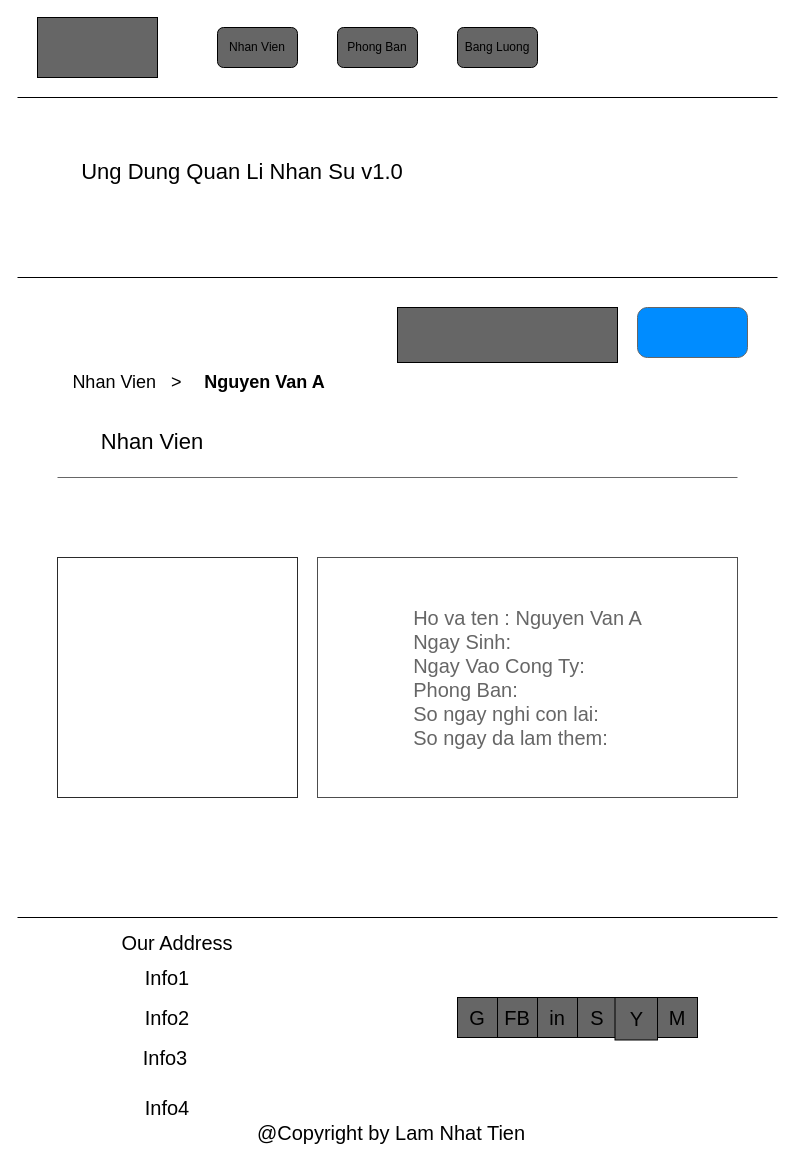
Image size: 796x1165. Some labels were removed from this diagram. Each missing label, with the centre of its shape:
Image: point 177,677
Logo: point 97,47
Nhap Ten Can Tim Kiem: point 507,334
Search: point 692,332
